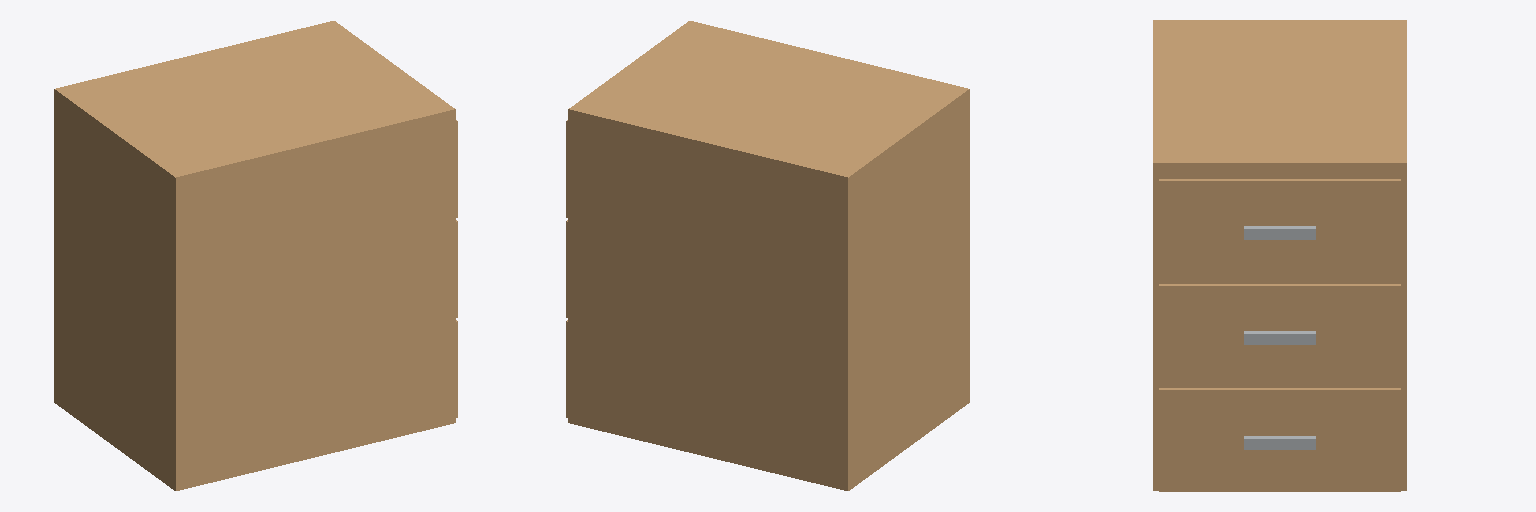
The robot description file, URDF, robot "office_pedestal":
<?xml version="1.0"?>
<robot name="office_pedestal">
  <material name="light_wood">
    <color rgba="0.84 0.69 0.51 1.0"/>
  </material>
  <material name="dark_metal">
    <color rgba="0.15 0.17 0.19 1.0"/>
  </material>
  <material name="silver">
    <color rgba="0.75 0.77 0.78 1.0"/>
  </material>

  <!-- Cabinet carcass: 0.56 deep (x), 0.42 wide (y), 0.60 high (z) -->
  <link name="base_link">
    <origin xyz="0 0 0.30" rpy="0 0 0"/>
    <inertial>
      <origin xyz="0 0 0" rpy="0 0 0"/>
      <mass value="18.0"/>
      <inertia ixx="0.805" ixy="0" ixz="0" iyy="1.01" iyz="0" izz="0.735"/>
    </inertial>
    <visual>
      <origin xyz="0 0 0" rpy="0 0 0"/>
      <geometry>
        <box size="0.56 0.42 0.60"/>
      </geometry>
      <material name="light_wood"/>
    </visual>
    <collision>
      <origin xyz="0 0 0" rpy="0 0 0"/>
      <geometry>
        <box size="0.56 0.42 0.60"/>
      </geometry>
    </collision>
  </link>

  <!-- TOP DRAWER -->
  <link name="drawer_top">
    <inertial>
      <origin xyz="0 0 0" rpy="0 0 0"/>
      <mass value="2.5"/>
      <inertia ixx="0.035" ixy="0" ixz="0" iyy="0.053" iyz="0" izz="0.078"/>
    </inertial>
    <visual name="drawer_box">
      <origin xyz="0 0 -0.02" rpy="0 0 0"/>
      <geometry>
        <box size="0.45 0.36 0.12"/>
      </geometry>
      <material name="dark_metal"/>
    </visual>
    <visual name="drawer_front">
      <origin xyz="0.25 0 0" rpy="0 0 0"/>
      <geometry>
        <box size="0.02 0.40 0.185"/>
      </geometry>
      <material name="light_wood"/>
    </visual>
    <visual name="handle">
      <origin xyz="0.265 0 0" rpy="0 0 0"/>
      <geometry>
        <box size="0.015 0.12 0.02"/>
      </geometry>
      <material name="silver"/>
    </visual>
    <collision>
      <origin xyz="0 0 0" rpy="0 0 0"/>
      <geometry>
        <box size="0.48 0.38 0.16"/>
      </geometry>
    </collision>
  </link>
  <joint name="joint_top_drawer" type="prismatic">
    <parent link="base_link"/>
    <child link="drawer_top"/>
    <origin xyz="0.03 0 0.179" rpy="0 0 0"/>
    <axis xyz="1 0 0"/>
    <limit lower="0.0" upper="0.40" effort="30.0" velocity="1.0"/>
    <dynamics damping="5.0" friction="1.0"/>
  </joint>

  <!-- MIDDLE DRAWER - the one opened in close-up -->
  <link name="drawer_middle">
    <inertial>
      <origin xyz="0 0 0" rpy="0 0 0"/>
      <mass value="2.5"/>
      <inertia ixx="0.035" ixy="0" ixz="0" iyy="0.053" iyz="0" izz="0.078"/>
    </inertial>
    <visual name="drawer_box">
      <origin xyz="0 0 -0.02" rpy="0 0 0"/>
      <geometry>
        <box size="0.45 0.36 0.12"/>
      </geometry>
      <material name="dark_metal"/>
    </visual>
    <visual name="drawer_front">
      <origin xyz="0.25 0 0" rpy="0 0 0"/>
      <geometry>
        <box size="0.02 0.40 0.185"/>
      </geometry>
      <material name="light_wood"/>
    </visual>
    <visual name="handle">
      <origin xyz="0.265 0 0" rpy="0 0 0"/>
      <geometry>
        <box size="0.015 0.12 0.02"/>
      </geometry>
      <material name="silver"/>
    </visual>
    <collision>
      <origin xyz="0 0 0" rpy="0 0 0"/>
      <geometry>
        <box size="0.48 0.38 0.16"/>
      </geometry>
    </collision>
  </link>
  <joint name="joint_middle_drawer" type="prismatic">
    <parent link="base_link"/>
    <child link="drawer_middle"/>
    <origin xyz="0.03 0 -0.013" rpy="0 0 0"/>
    <axis xyz="1 0 0"/>
    <limit lower="0.0" upper="0.40" effort="30.0" velocity="1.0"/>
    <dynamics damping="5.0" friction="1.0"/>
  </joint>

  <!-- BOTTOM DRAWER - the one opened in first clip -->
  <link name="drawer_bottom">
    <inertial>
      <origin xyz="0 0 0" rpy="0 0 0"/>
      <mass value="2.5"/>
      <inertia ixx="0.035" ixy="0" ixz="0" iyy="0.053" iyz="0" izz="0.078"/>
    </inertial>
    <visual name="drawer_box">
      <origin xyz="0 0 -0.02" rpy="0 0 0"/>
      <geometry>
        <box size="0.45 0.36 0.12"/>
      </geometry>
      <material name="dark_metal"/>
    </visual>
    <visual name="drawer_front">
      <origin xyz="0.25 0 0" rpy="0 0 0"/>
      <geometry>
        <box size="0.02 0.40 0.185"/>
      </geometry>
      <material name="light_wood"/>
    </visual>
    <visual name="handle">
      <origin xyz="0.265 0 0" rpy="0 0 0"/>
      <geometry>
        <box size="0.015 0.12 0.02"/>
      </geometry>
      <material name="silver"/>
    </visual>
    <collision>
      <origin xyz="0 0 0" rpy="0 0 0"/>
      <geometry>
        <box size="0.48 0.38 0.16"/>
      </geometry>
    </collision>
  </link>
  <joint name="joint_bottom_drawer" type="prismatic">
    <parent link="base_link"/>
    <child link="drawer_bottom"/>
    <origin xyz="0.03 0 -0.204" rpy="0 0 0"/>
    <axis xyz="1 0 0"/>
    <limit lower="0.0" upper="0.40" effort="30.0" velocity="1.0"/>
    <dynamics damping="5.0" friction="1.0"/>
  </joint>

</robot>

--- What the picture shows (computed from the rendered views, not written in the file) ---
3 views of the same robot in one strip: view 1: azimuth 30°, elevation 25°; view 2: azimuth 150°, elevation 25°; view 3: azimuth 270°, elevation 25° (orthographic).
Robot: office_pedestal — 4 links, 3 joints (3 prismatic); root link base_link; default pose: all joints at 0.
Visible links, largest first — view 1: base_link; view 2: base_link; view 3: base_link, drawer_bottom, drawer_top, drawer_middle.
Link boxes in pixels (x1=…): base_link: x1=54, y1=21, x2=455, y2=490; base_link: x1=568, y1=21, x2=969, y2=490; base_link: x1=1153, y1=20, x2=1406, y2=490; drawer_bottom: x1=1159, y1=388, x2=1400, y2=491; drawer_top: x1=1159, y1=179, x2=1400, y2=281; drawer_middle: x1=1159, y1=284, x2=1400, y2=386.
Bounding box of the posed robot: 0.5825 × 0.42 × 0.6 m (x, y, z).
Geometry: primitives only (box / cylinder / sphere), no mesh files.
